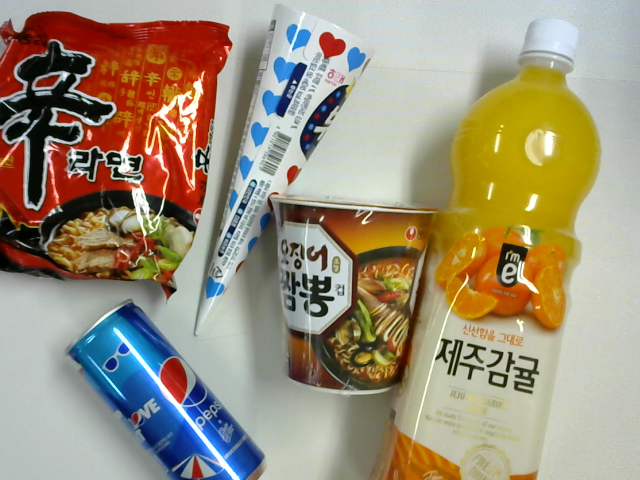Bravo_Cone_(Banila)_CVS: (197, 2, 371, 334)
Jeju_Tangerine_1.5L: (365, 16, 606, 480)
Ojjam: (269, 198, 437, 403)
Pepsi_Cola_Can_250ml: (68, 300, 271, 480)
Sinramen: (1, 12, 230, 302)
